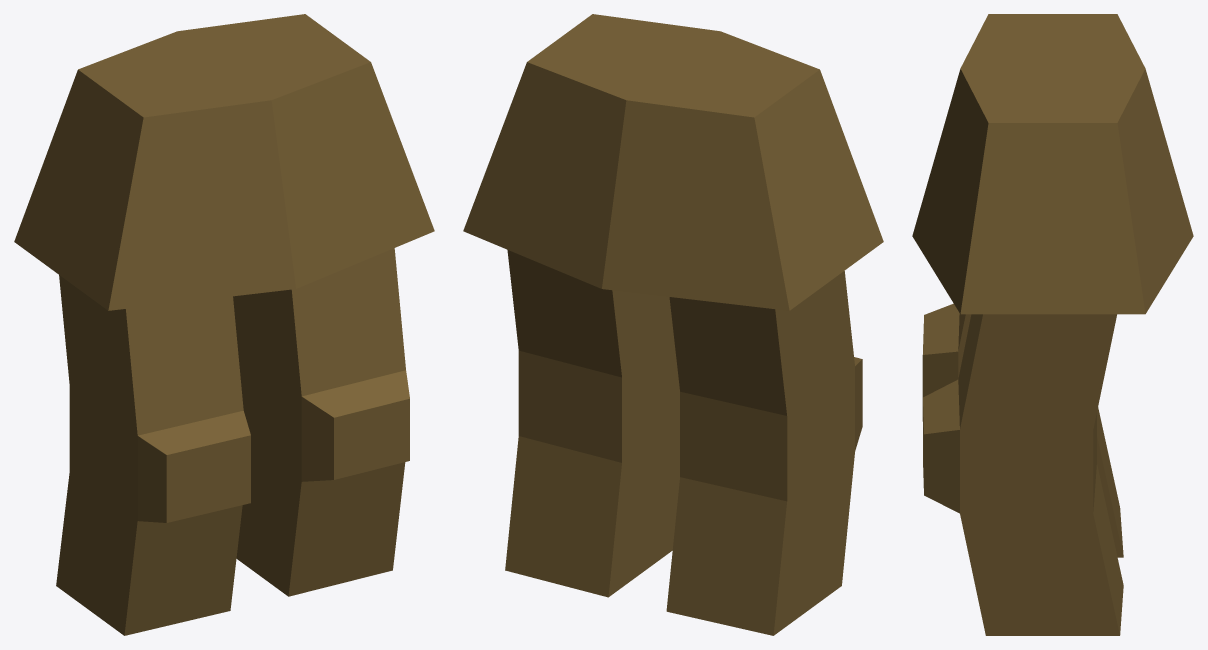
The model's file is bronze_pants.glb.
3 views of the same model, side by side, from view 1: azimuth 30°, elevation 25°; view 2: azimuth 150°, elevation 25°; view 3: azimuth 270°, elevation 25° (orthographic).
Parts seen in each view (by area): view 1: Cube; view 2: Cube; view 3: Cube.
Boxes of the visible parts, <box> form: Cube: <box>14,14,434,635</box>; Cube: <box>463,14,883,635</box>; Cube: <box>912,14,1193,635</box>.
Bounding box in the file's own units: 4 × 6 × 3.04.
